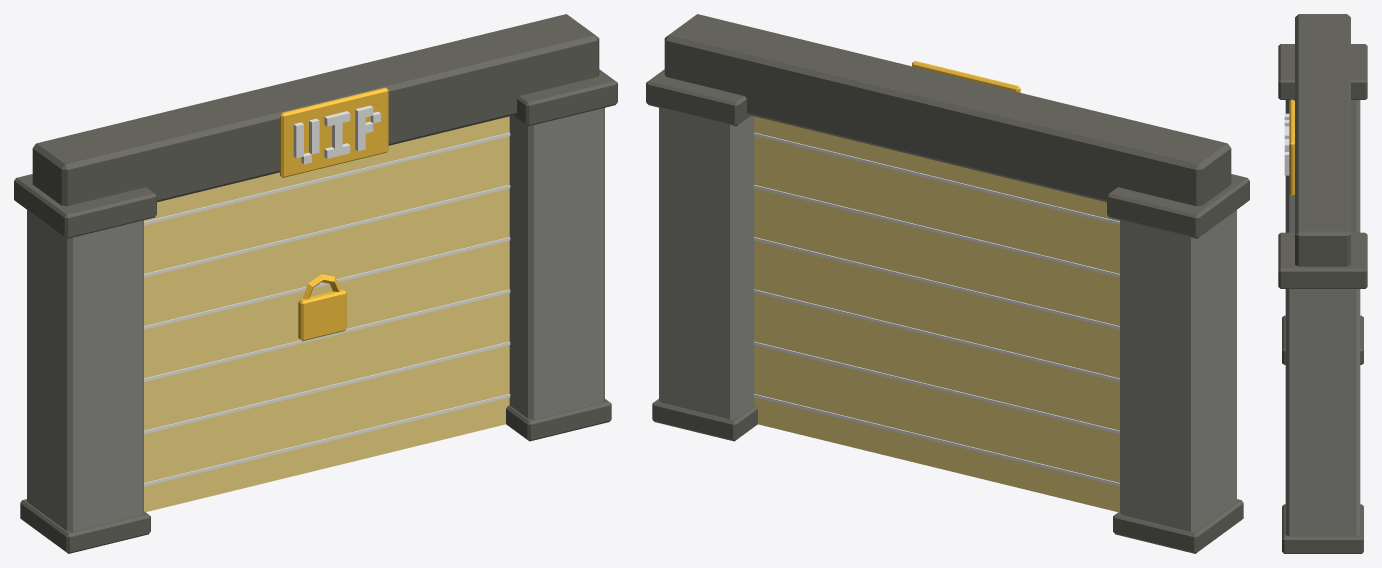
File: VIPZoneGate.fbx
3 renders of one model, left to right at view 1: azimuth 30°, elevation 25°; view 2: azimuth 150°, elevation 25°; view 3: azimuth 270°, elevation 25°, orthographic. The views are drawn at different scales.
Visible parts, largest first — view 1: VIPZoneGate, VIPZoneGate_Barrier; view 2: VIPZoneGate, VIPZoneGate_Barrier; view 3: VIPZoneGate.
Part boxes in pixels (box(x1,y1,x2,y2)): VIPZoneGate: box(14, 14, 617, 553); VIPZoneGate_Barrier: box(144, 116, 510, 512); VIPZoneGate: box(646, 14, 1249, 553); VIPZoneGate_Barrier: box(753, 116, 1119, 512); VIPZoneGate: box(1278, 14, 1367, 553).
Bounding box in the file's own units: 28.8 × 19.1 × 4.8.
Materials: 1 (1 with a texture image).
